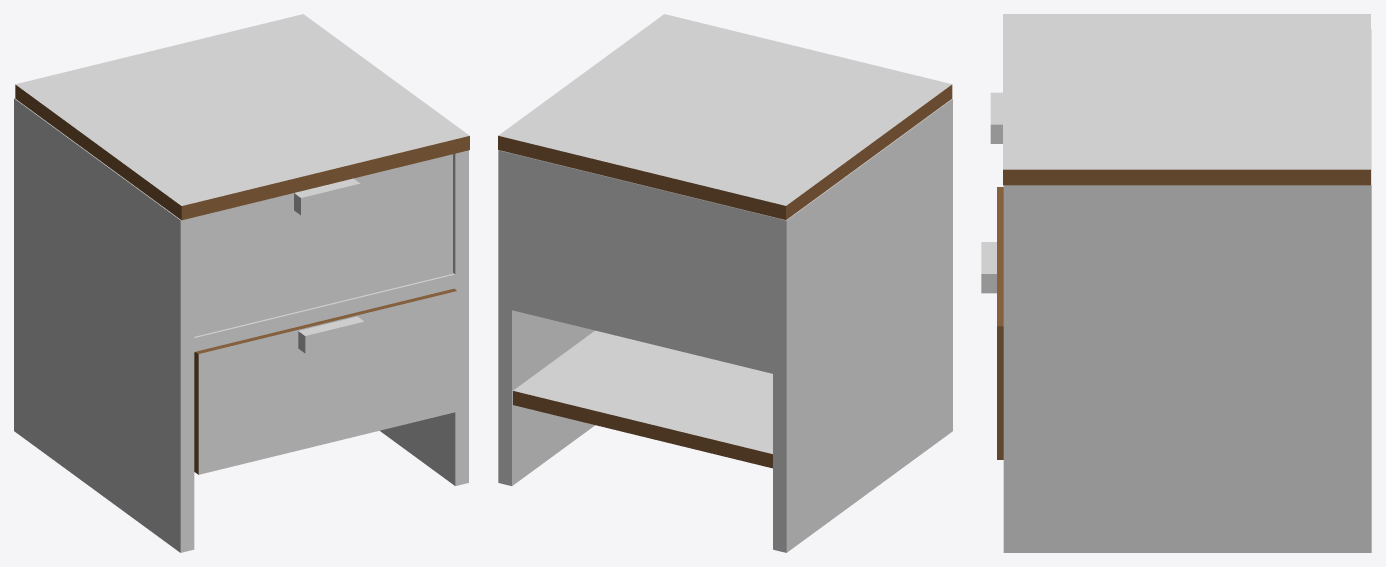
File: bedside_table_tier4.fbx
3 renders of one model, left to right at view 1: azimuth 30°, elevation 25°; view 2: azimuth 150°, elevation 25°; view 3: azimuth 270°, elevation 25°, orthographic. The views are drawn at different scales.
Parts seen in each view (by area): view 1: Cube.007; view 2: Cube.007; view 3: Cube.007.
Part boxes in pixels (x1=…): Cube.007: x1=14, y1=14, x2=469, y2=552; Cube.007: x1=498, y1=14, x2=952, y2=552; Cube.007: x1=981, y1=14, x2=1371, y2=552.
Size of the model in its own units: 74.78 by 85.82 by 79.08.
